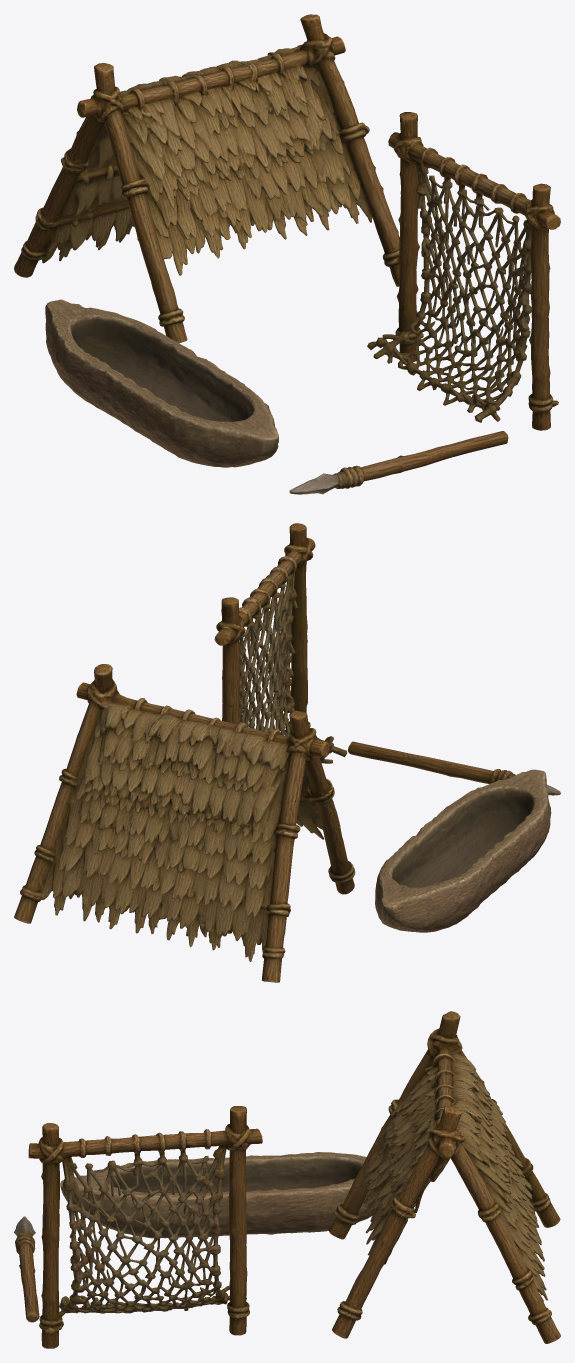
The model's file is Fishing Post (South Asian).fbx.
3 renders of one model, top to bottom at view 1: azimuth 30°, elevation 25°; view 2: azimuth 150°, elevation 25°; view 3: azimuth 270°, elevation 25°, orthographic. The views are drawn at different scales.
Visible parts, largest first — view 1: tripo_node_f6686a32; view 2: tripo_node_f6686a32; view 3: tripo_node_f6686a32.
Boxes of the visible parts, bbox=[...] form: tripo_node_f6686a32: bbox=[14, 14, 560, 494]; tripo_node_f6686a32: bbox=[14, 523, 560, 982]; tripo_node_f6686a32: bbox=[14, 1011, 560, 1348].
Bounding box in the file's own units: 0.698 × 0.4719 × 1.
